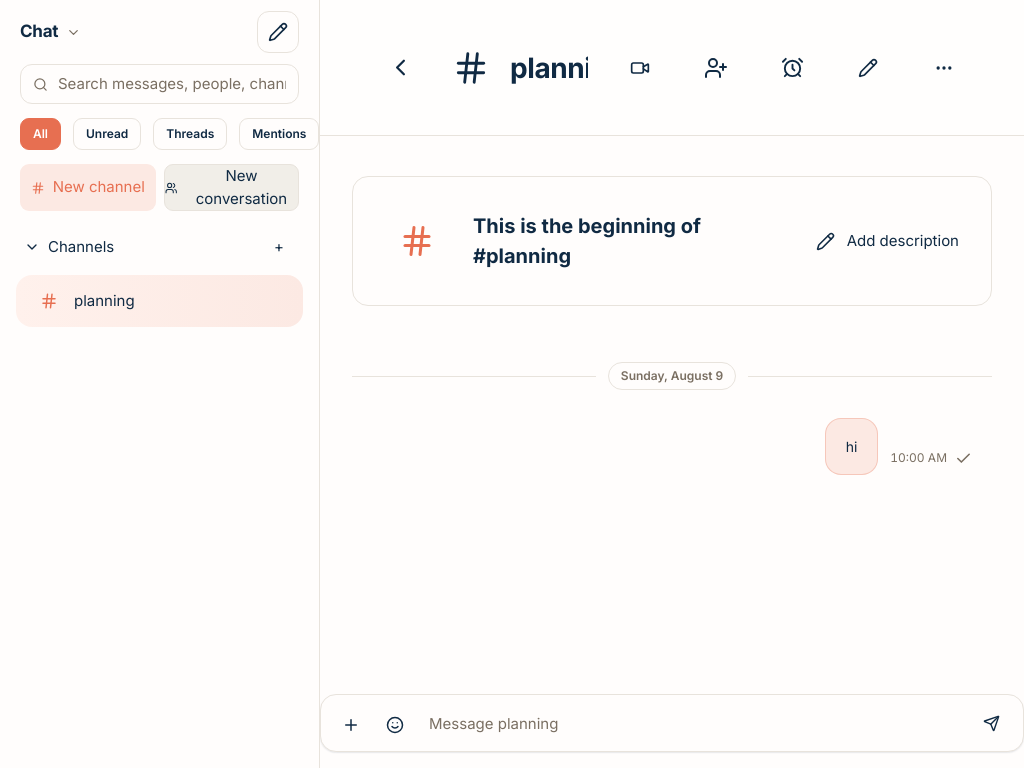
it: choosing a name puts it in the message
Type "@al" into the text box named "Write a message" at [694, 724], box [421,704,967,743]
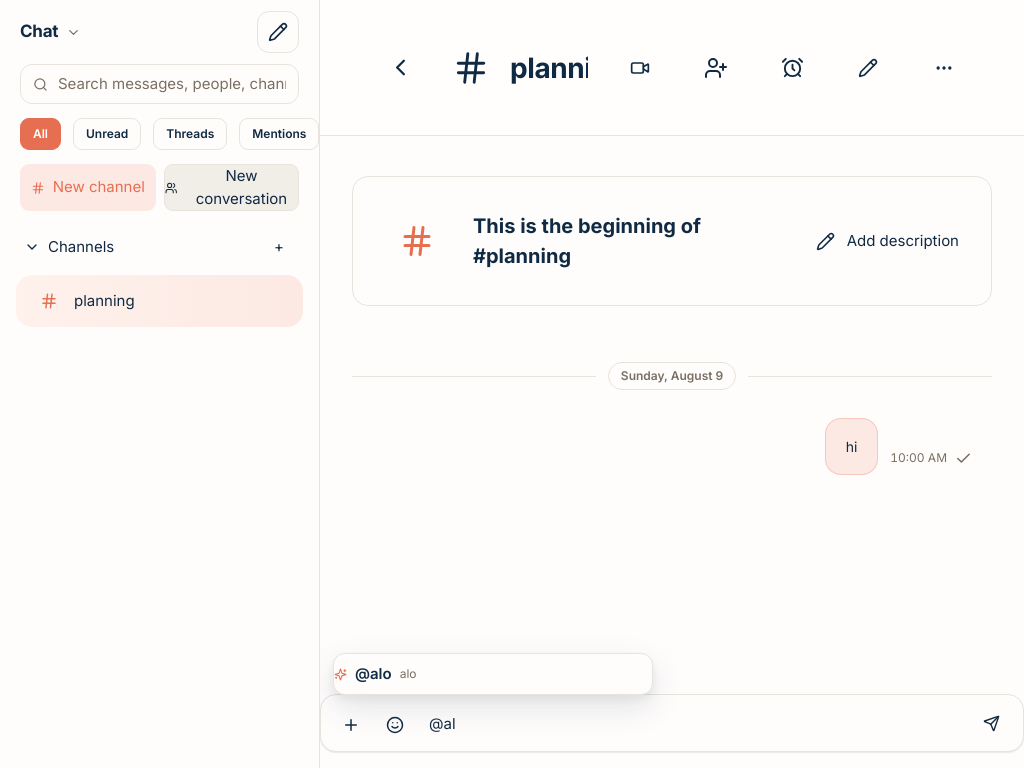
Press the mouse on the text "@alo" at [373, 674], box [355,663,392,685]
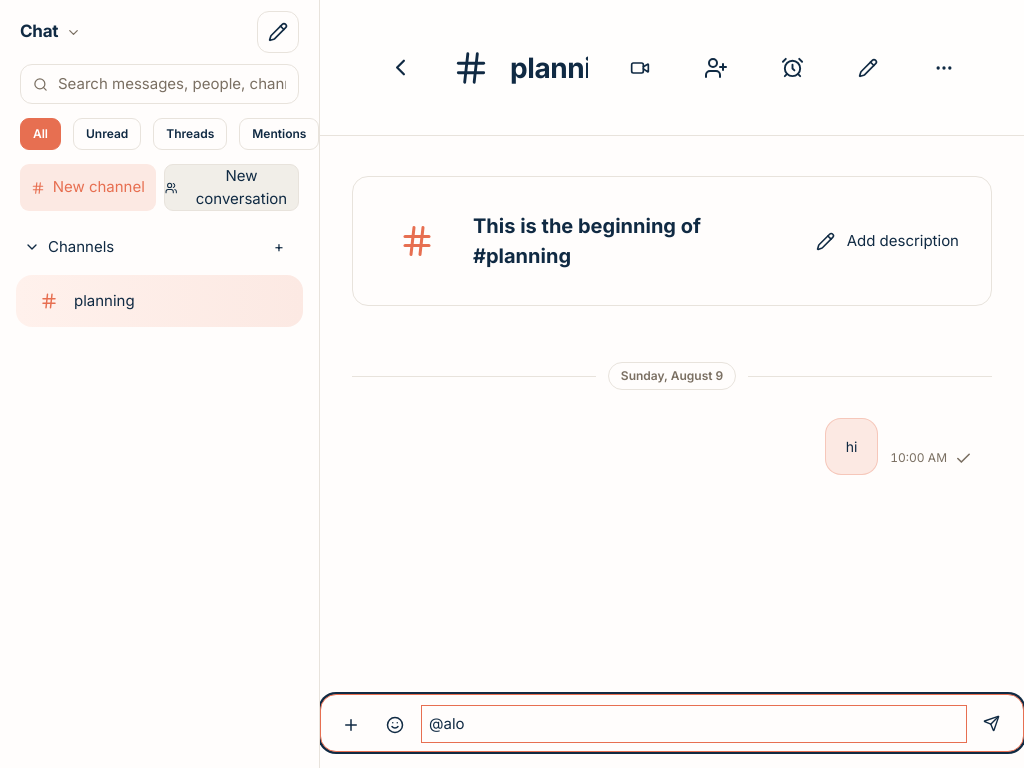
Expected: the text box named "Write a message" holds "@alo ", [421,704,967,743]
